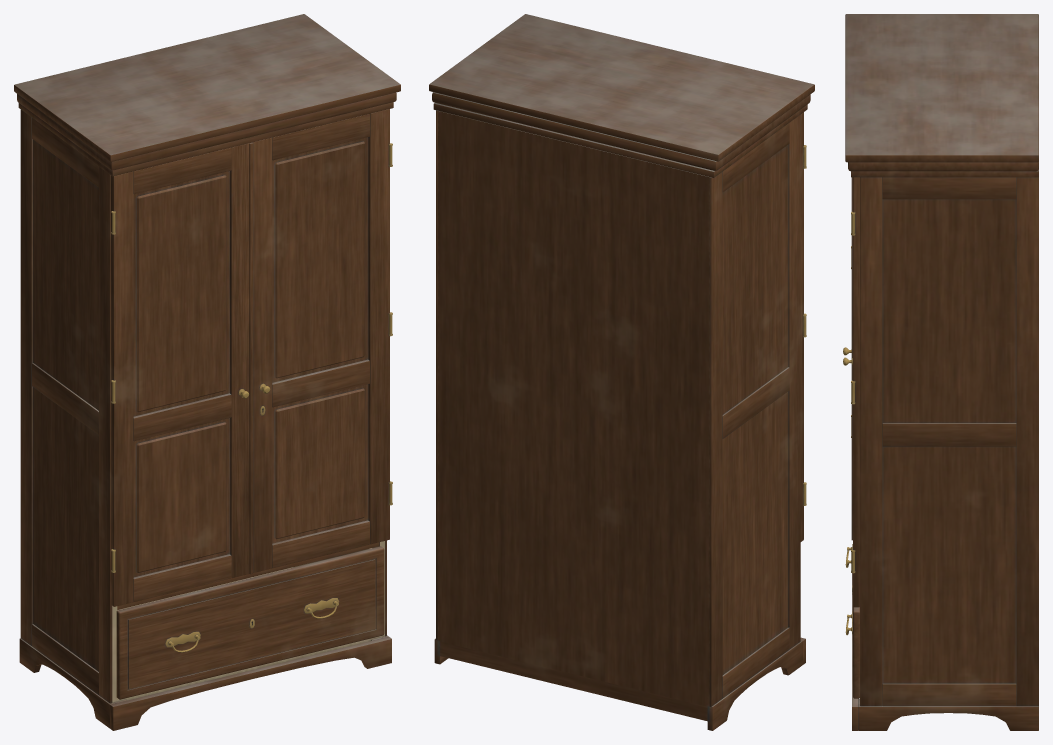
File: guarda_roupa.glb
The picture shows the model from 3 angles, left to right: view 1: azimuth 30°, elevation 25°; view 2: azimuth 150°, elevation 25°; view 3: azimuth 270°, elevation 25°; orthographic projection.
Parts seen in each view (by area): view 1: corpo, porta_dir, porta_esq, gaveta; view 2: corpo, porta_esq; view 3: corpo, porta_dir, gaveta.
Part boxes in pixels (x1,y1,x2,y2): corpo: (14,14,400,730); porta_dir: (249,109,392,574); porta_esq: (110,143,249,606); gaveta: (116,546,384,699); corpo: (429,14,814,730); porta_esq: (800,112,806,541); corpo: (845,14,1038,730); porta_dir: (843,177,859,607); gaveta: (845,544,859,698).
Bounding box in the file's own units: 1.05 × 2 × 0.6135.
Materials: 3 (3 with a texture image).
